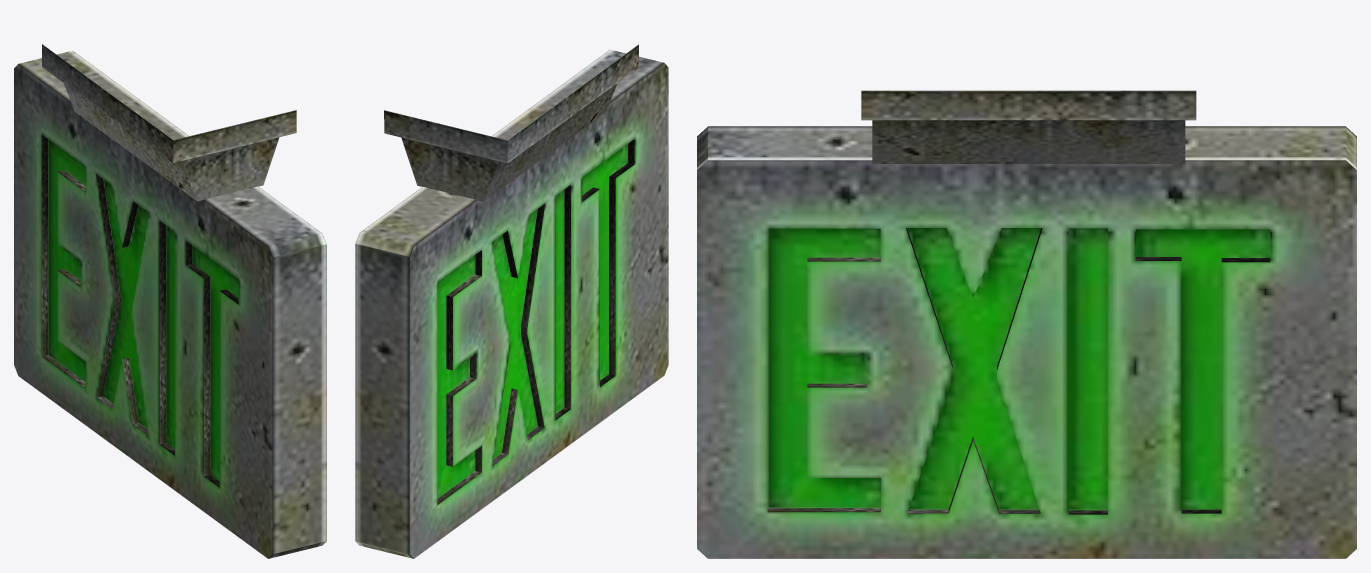
Rendered from exit_ceiling.glb.
3 renders of one model, left to right at view 1: azimuth 30°, elevation 25°; view 2: azimuth 150°, elevation 25°; view 3: azimuth 270°, elevation 25°, orthographic. The views are drawn at different scales.
Parts seen in each view (by area): view 1: 0_Exit_ceiling; view 2: 0_Exit_ceiling; view 3: 0_Exit_ceiling.
Boxes of the visible parts, box(x1,y1,x2,y2) form: 0_Exit_ceiling: box(14, 44, 326, 558); 0_Exit_ceiling: box(355, 44, 668, 558); 0_Exit_ceiling: box(697, 90, 1356, 558).
Bounding box in the file's own units: 0.1343 × 0.3992 × 0.4877.
Materials: 1 (1 with a texture image).
